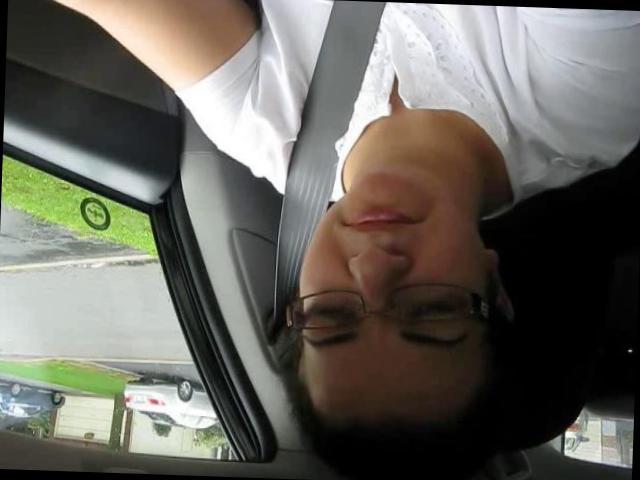eye_closed: (308, 293, 366, 328), (400, 295, 465, 322)
face: (292, 170, 482, 380)
